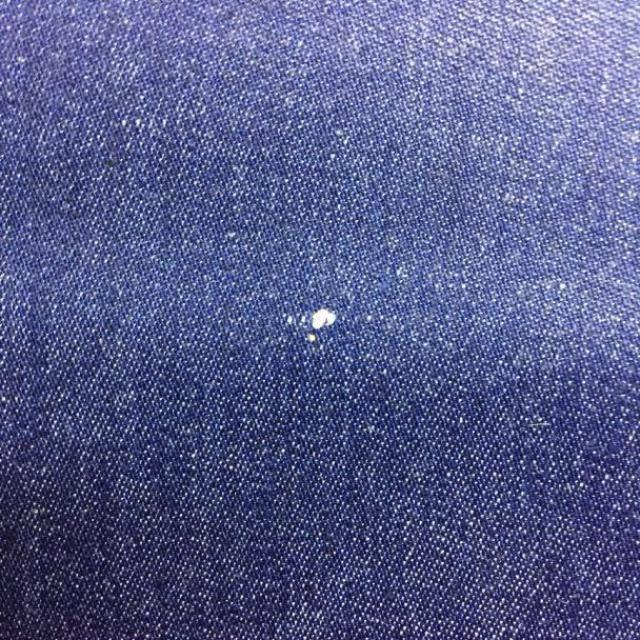Knot: (285, 307, 338, 332)
